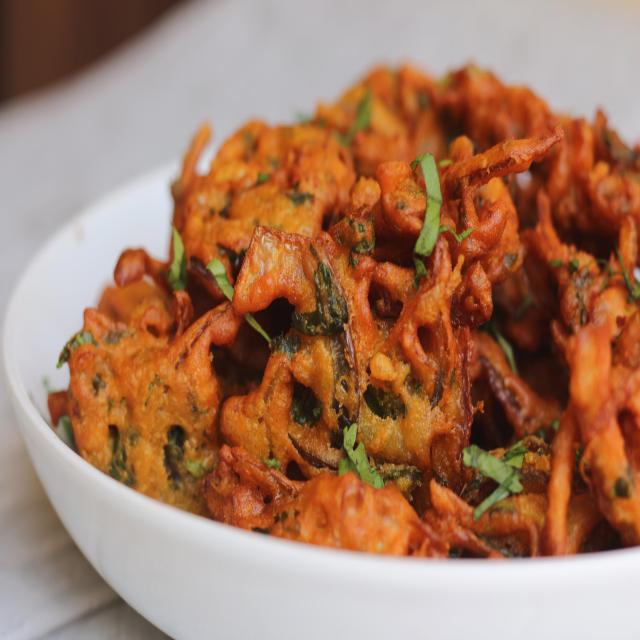DOSA: (56, 59, 640, 570)
